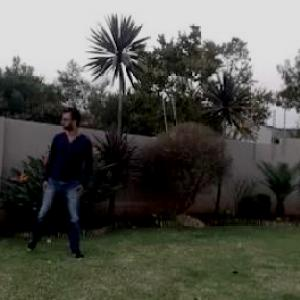follow: (45, 103, 90, 258)
